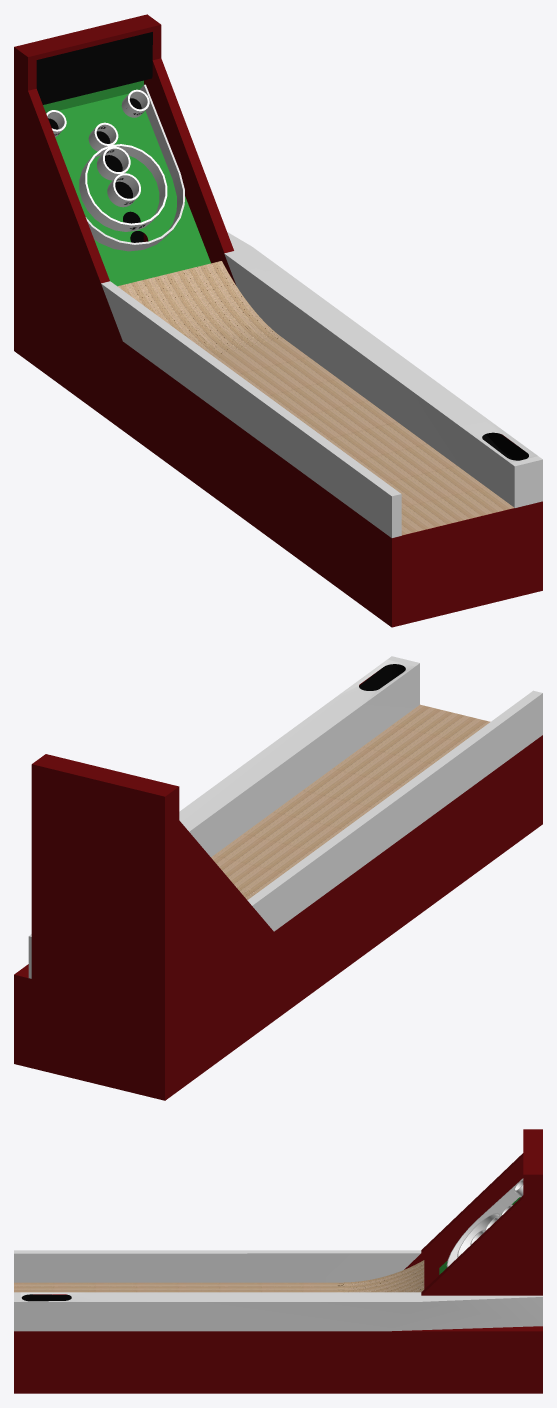
The model's file is machine.glb.
The picture shows the model from 3 angles, top to bottom: view 1: azimuth 30°, elevation 25°; view 2: azimuth 150°, elevation 25°; view 3: azimuth 270°, elevation 25°; orthographic projection. The views are drawn at different scales.
Parts seen in each view (by area): view 1: Body, Alley, Backboard, 10Loop, 20Ring; view 2: Body, Alley; view 3: Body, Alley, 10Loop, 20Ring.
Boxes of the visible parts, x1,y1,x2,y2 form: Body: [14, 14, 542, 627]; Alley: [118, 261, 514, 535]; Backboard: [43, 80, 210, 286]; 10Loop: [85, 84, 184, 251]; 20Ring: [79, 144, 167, 231]; Body: [14, 656, 542, 1100]; Alley: [211, 704, 490, 899]; Body: [14, 1129, 542, 1393]; Alley: [14, 1260, 424, 1292]; 10Loop: [446, 1178, 523, 1267]; 20Ring: [457, 1212, 500, 1257].
Size of the model in its own units: 0.8501 by 1.63 by 3.68.
10 materials, 6 textured.
